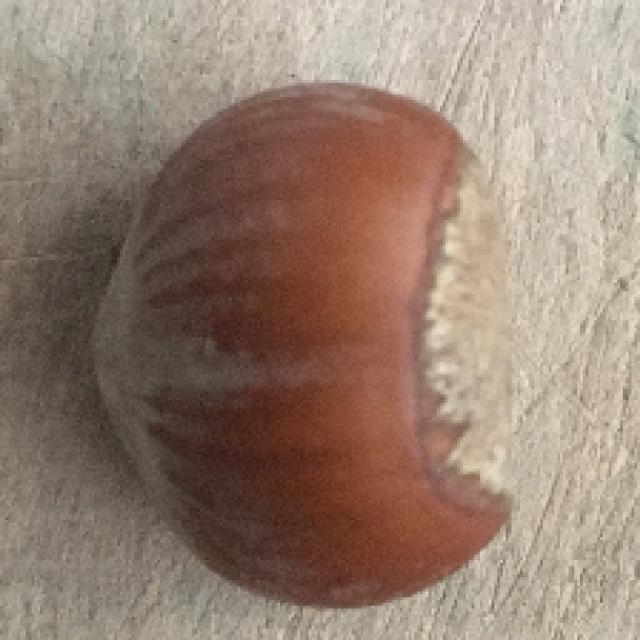QualityHazelnut: (93, 84, 518, 612)
